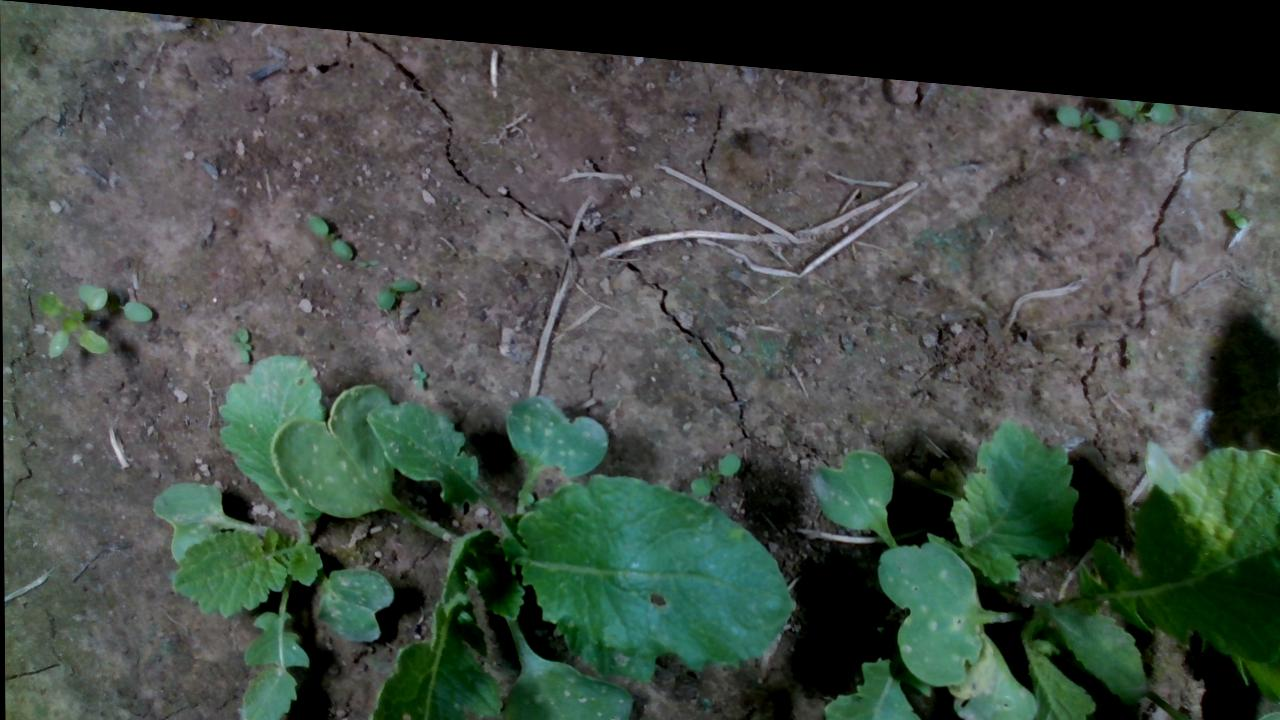weed: (688, 435, 742, 485), (305, 207, 352, 253), (374, 267, 418, 306), (1224, 182, 1248, 207), (409, 352, 427, 384), (235, 321, 249, 358)
